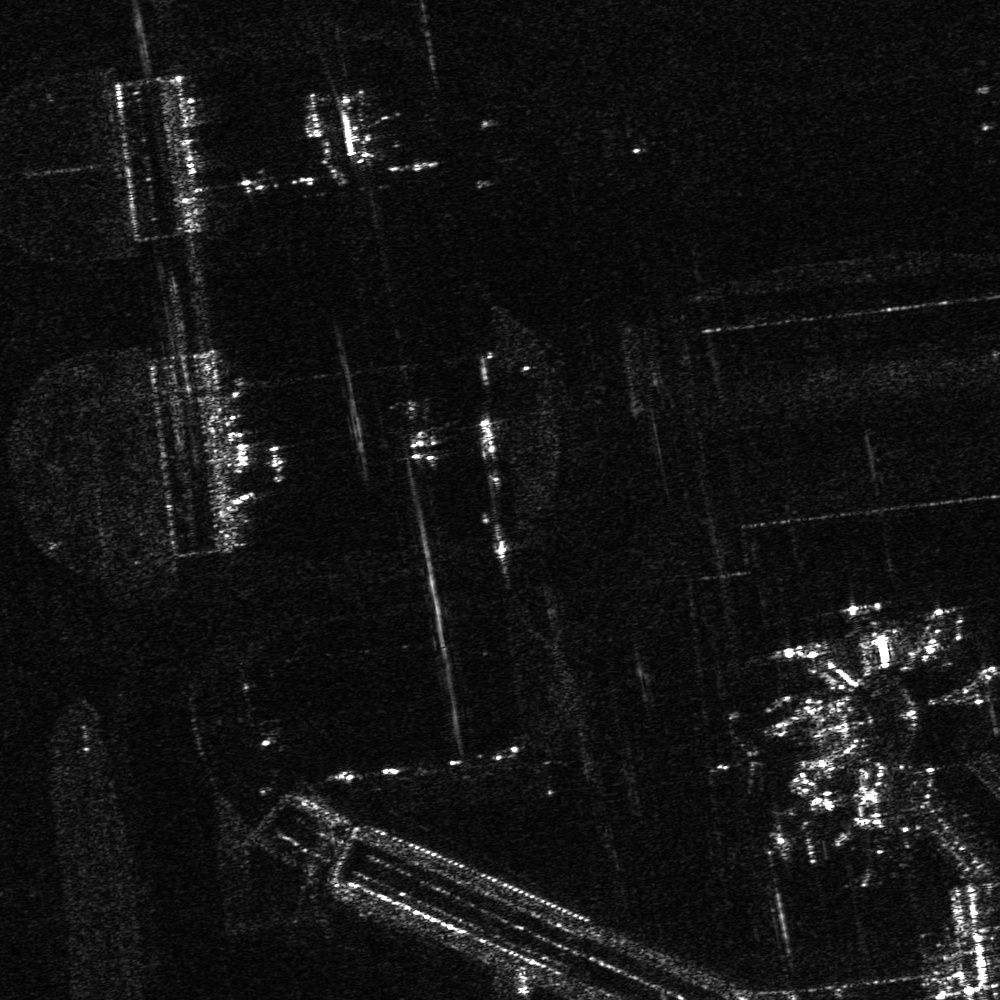A220: (703, 727, 774, 795)
